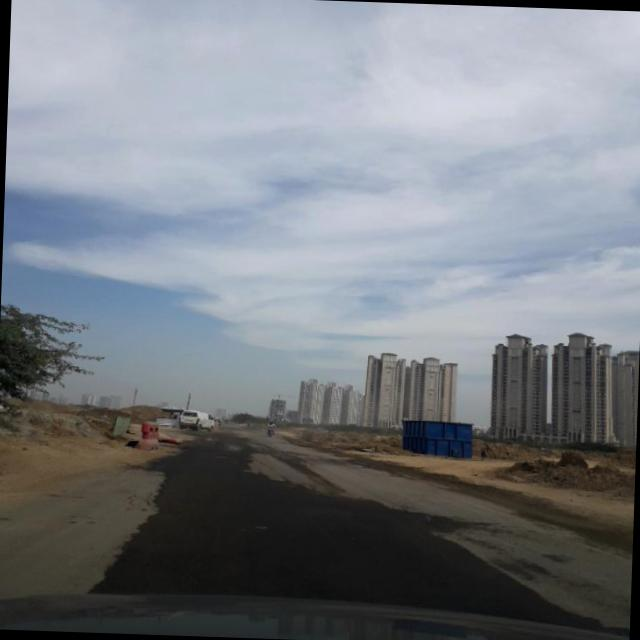crack: (92, 459, 171, 584)
